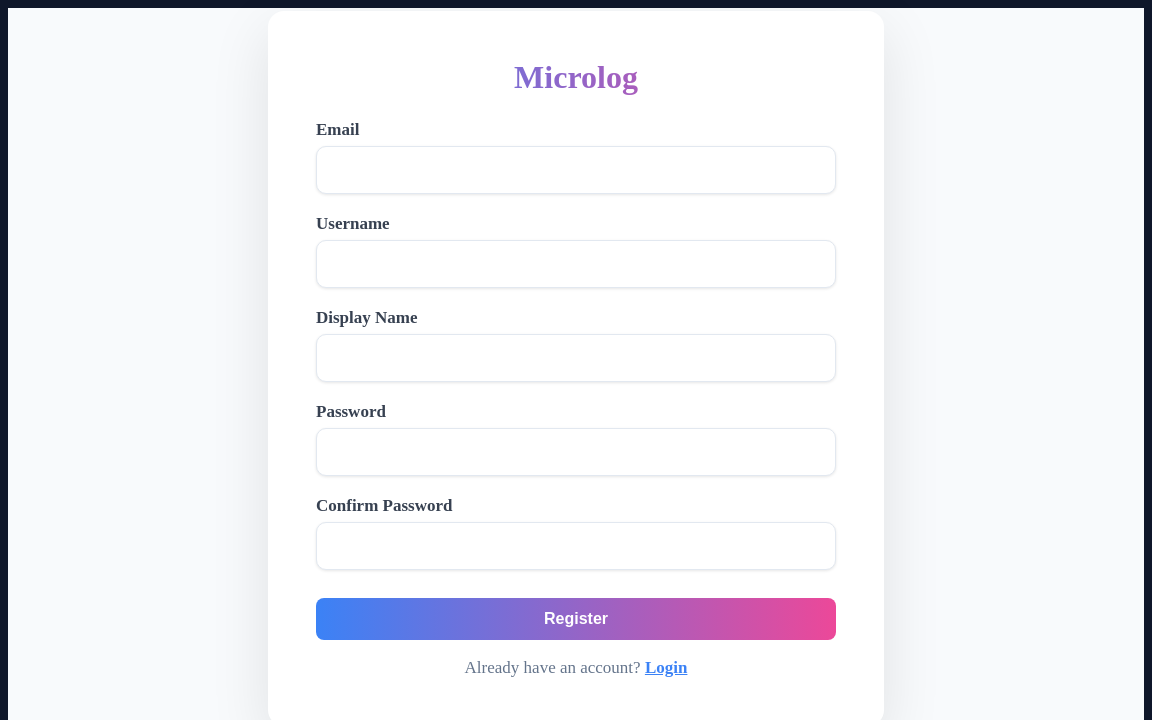
Test case: RegisterForm › shows inline error when password is under 8 characters
This screenshot has width=1152, height=720.
Type "alice@example.com" into the field labelled "Email" at (576, 170), box [316,146,836,194]
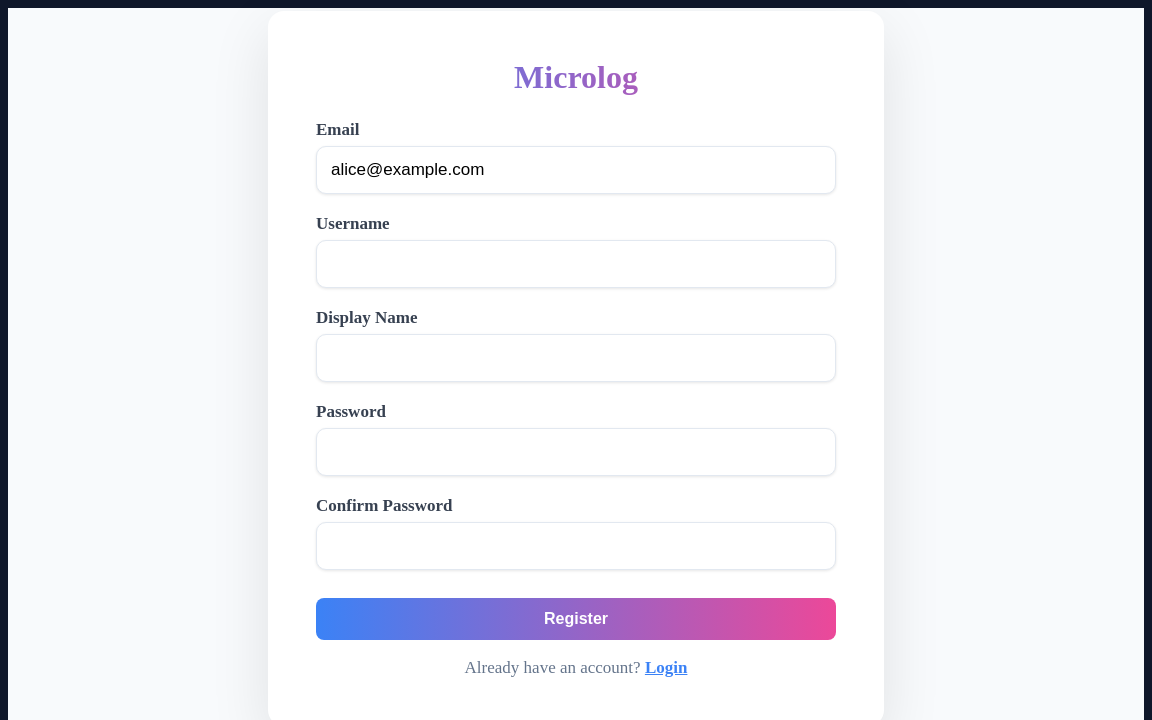
Type "alice_1" into the field labelled "Username" at (576, 264), box [316,240,836,288]
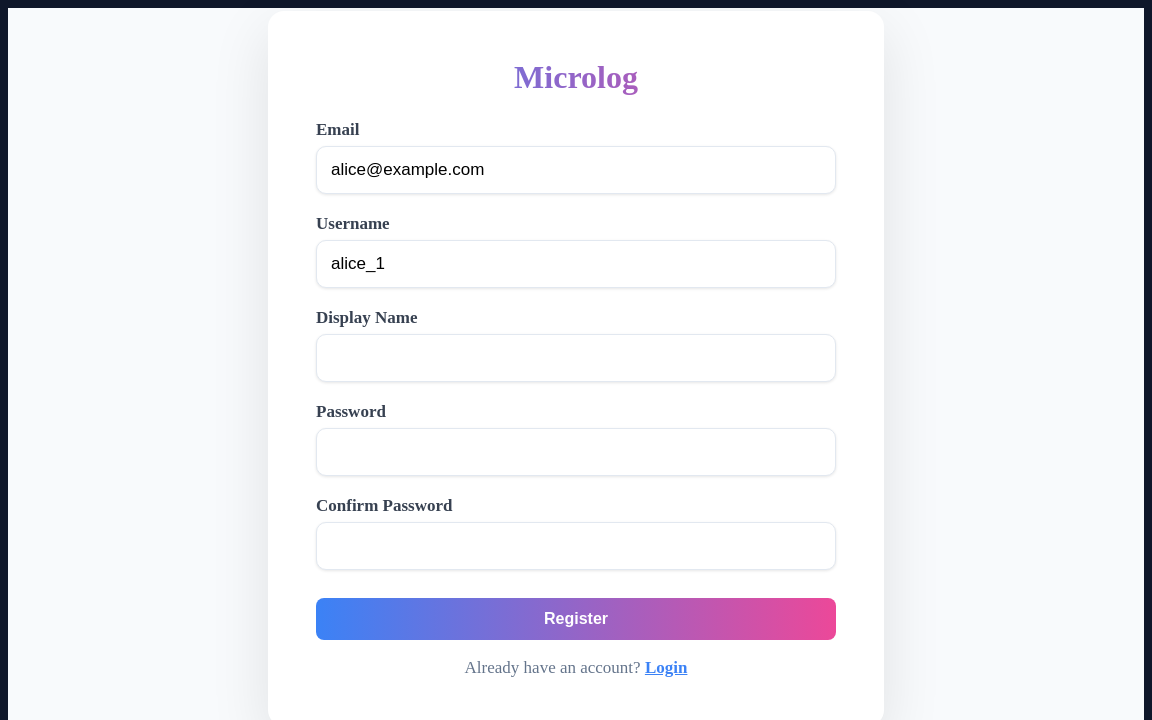
Type "Alice" into the field labelled "Display Name" at (576, 358), box [316,334,836,382]
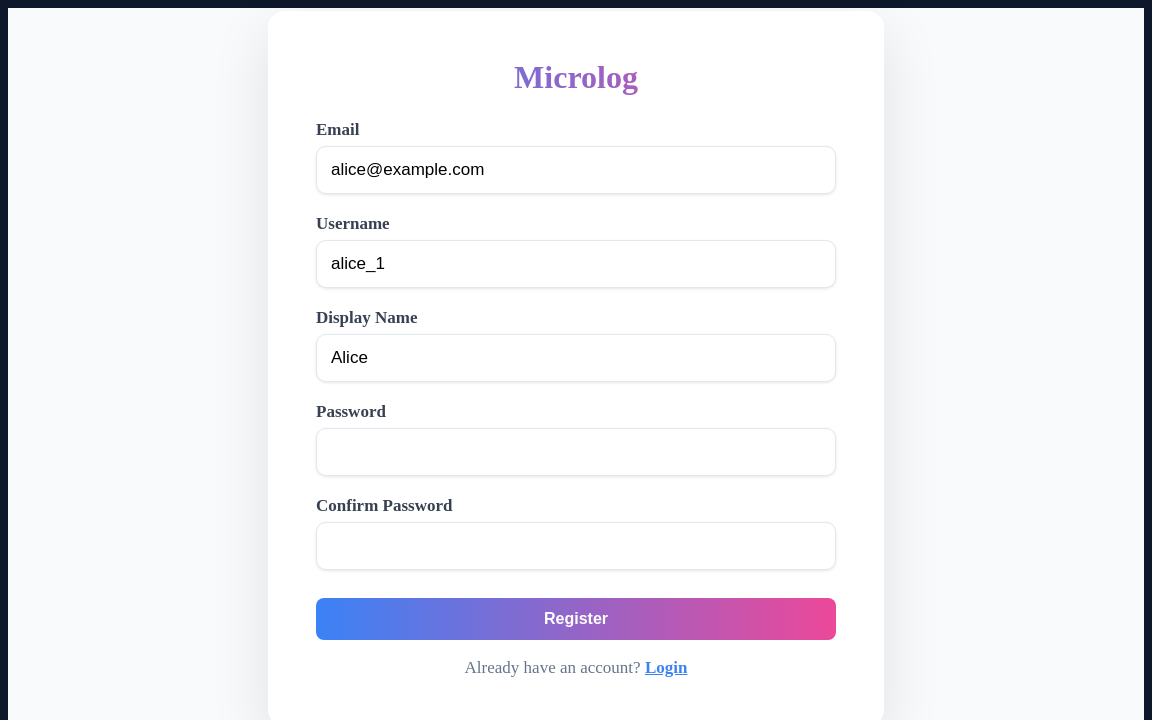
Type "short" into the password field labelled "Password" at (576, 452), box [316,428,836,476]
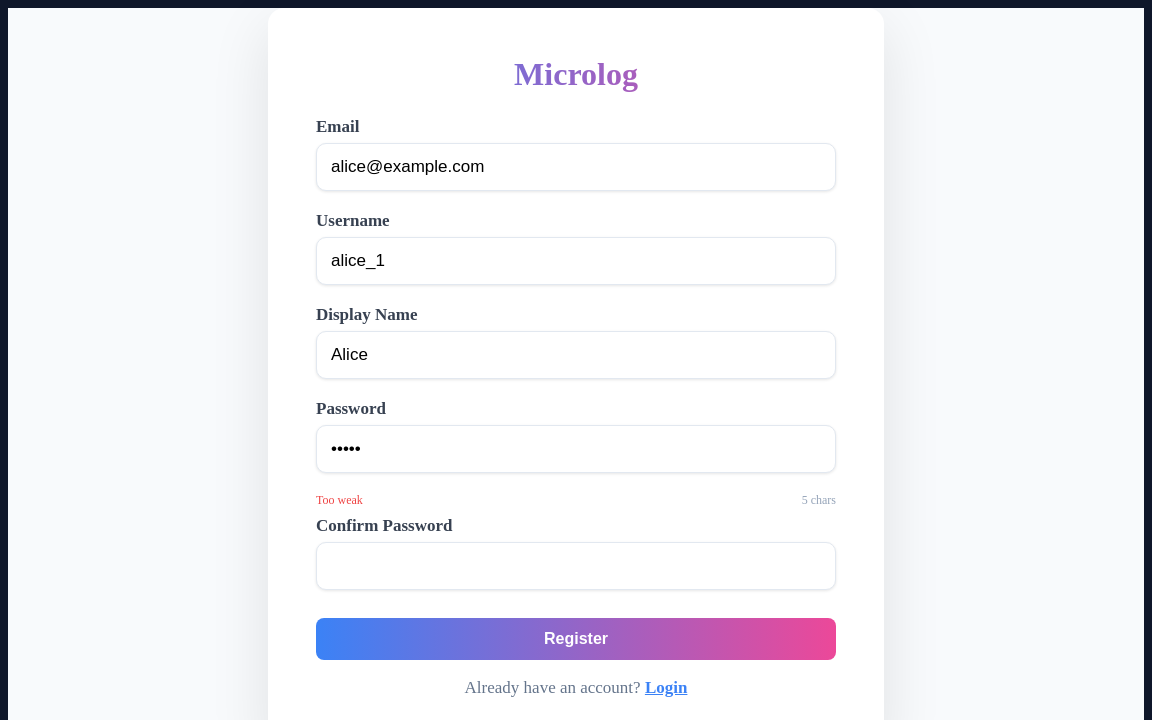
Type "short" into the password field labelled "Confirm Password" at (576, 566), box [316,542,836,590]
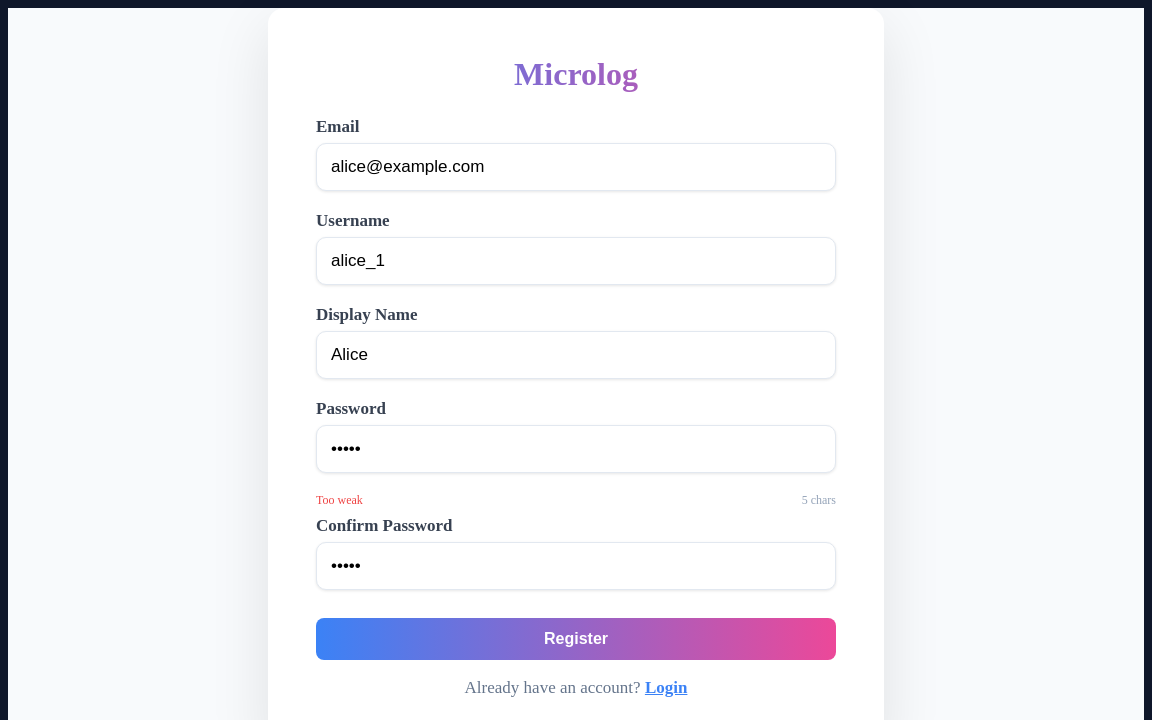
Click the button "Register" at (576, 639), box [316,618,836,660]
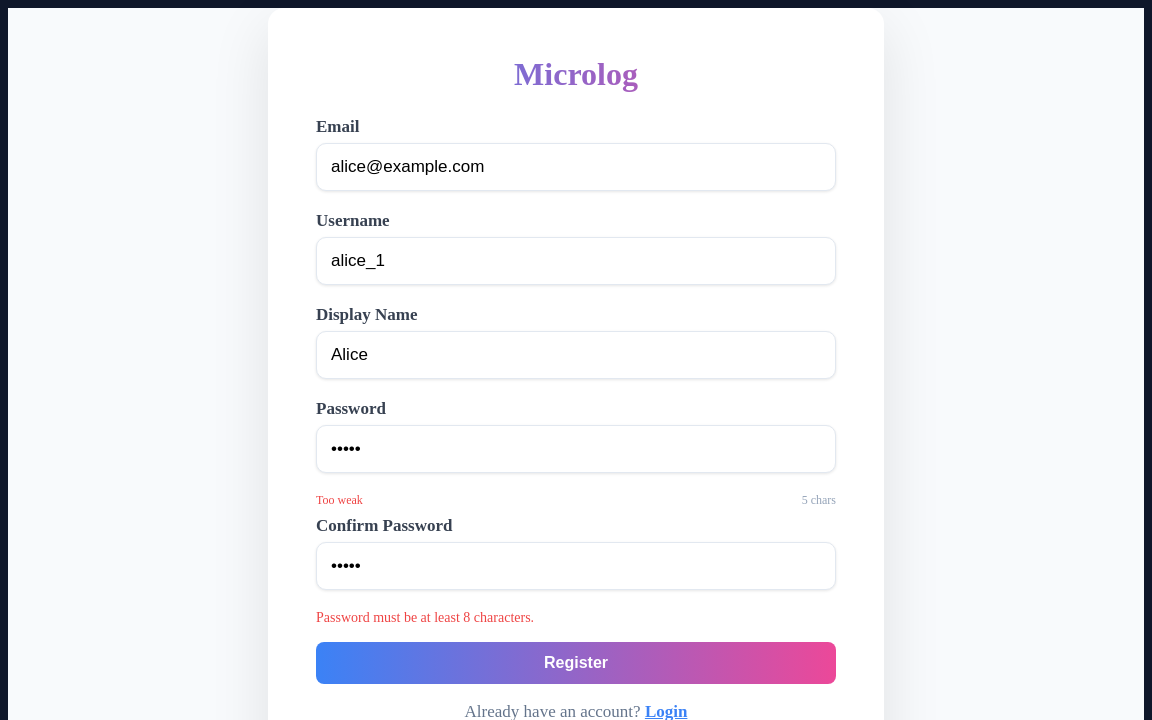
Result: the text "Password must be at least 8 characters." is shown at [316,610,534,625]
